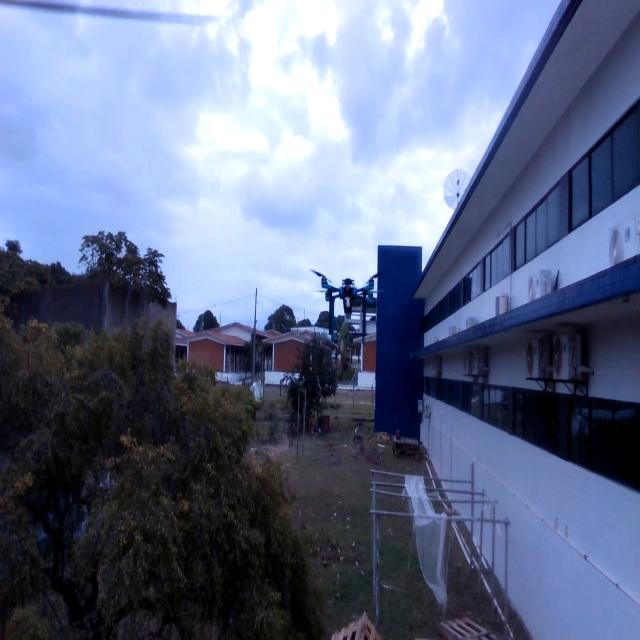-uav-: (299, 249, 402, 354)
